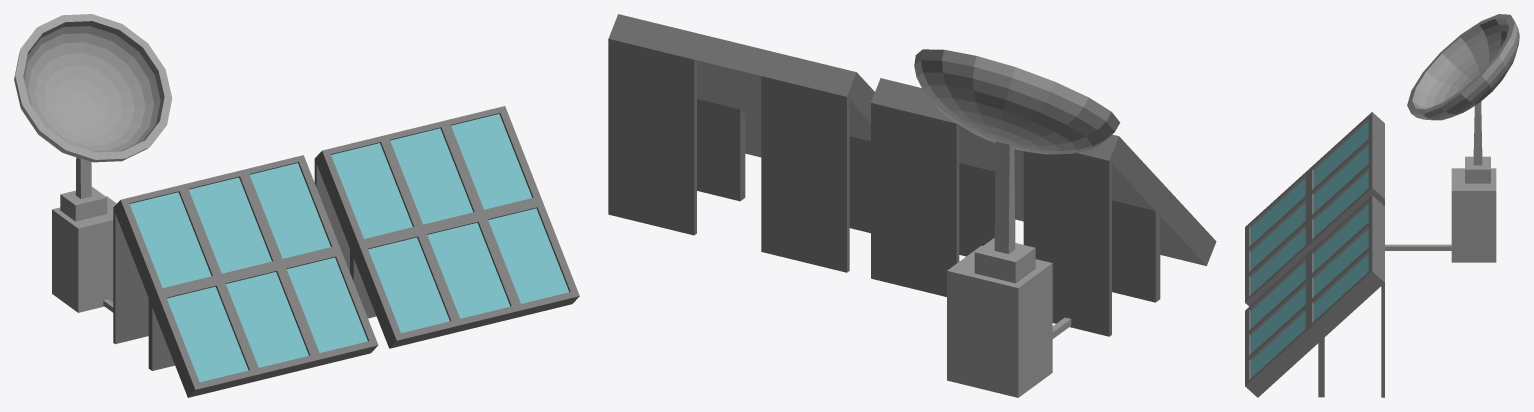
File: Solar panel 02.fbx
3 views of the same model, side by side, from view 1: azimuth 30°, elevation 25°; view 2: azimuth 150°, elevation 25°; view 3: azimuth 270°, elevation 25° (orthographic). The views are drawn at different scales.
Parts seen in each view (by area): view 1: Cube; view 2: Cube; view 3: Cube.
Part boxes in pixels (x1,y1,x2,y2): Cube: (14, 14, 579, 397); Cube: (608, 14, 1216, 397); Cube: (1245, 14, 1519, 397).
Bounding box in the file's own units: 471 × 278 × 306.
